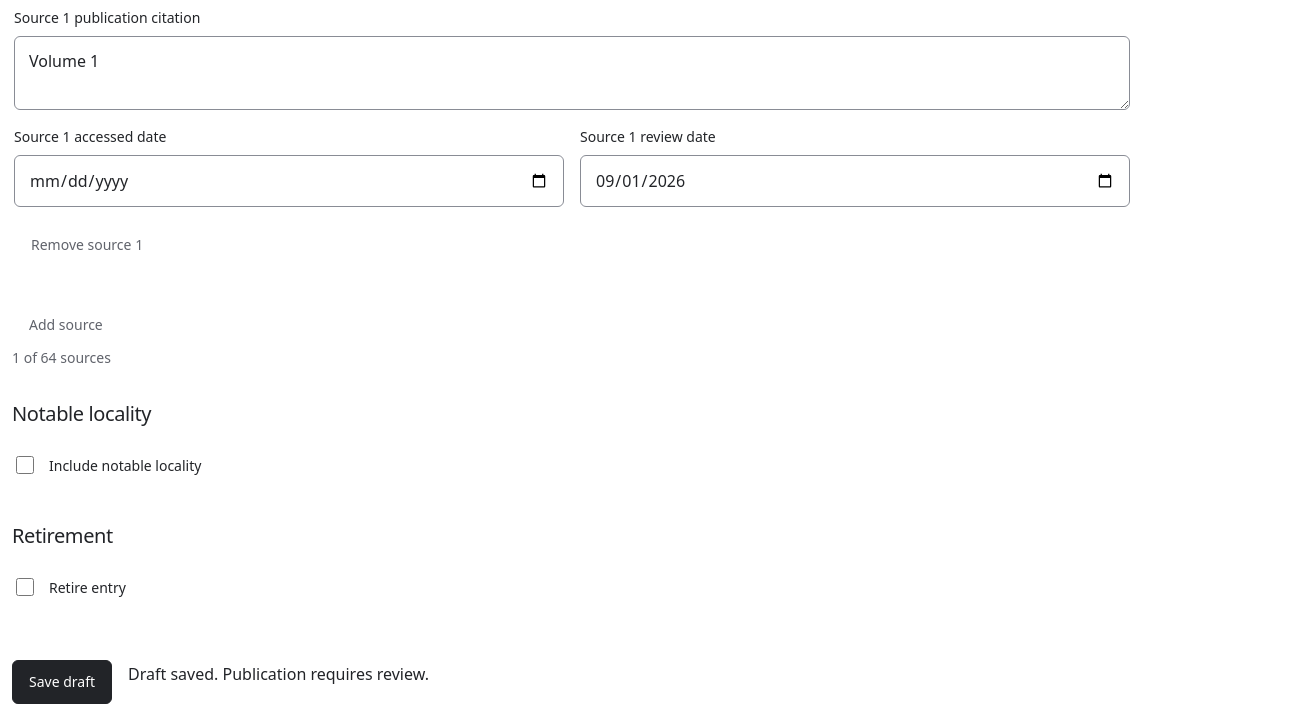
Test: gem editor › saves incomplete retirement and citations while showing server field errors
(page scrolled)
Step 1. Click the checkbox labelled "Retire entry" → (25, 587), box [16, 565, 34, 609]
(page scrolled)
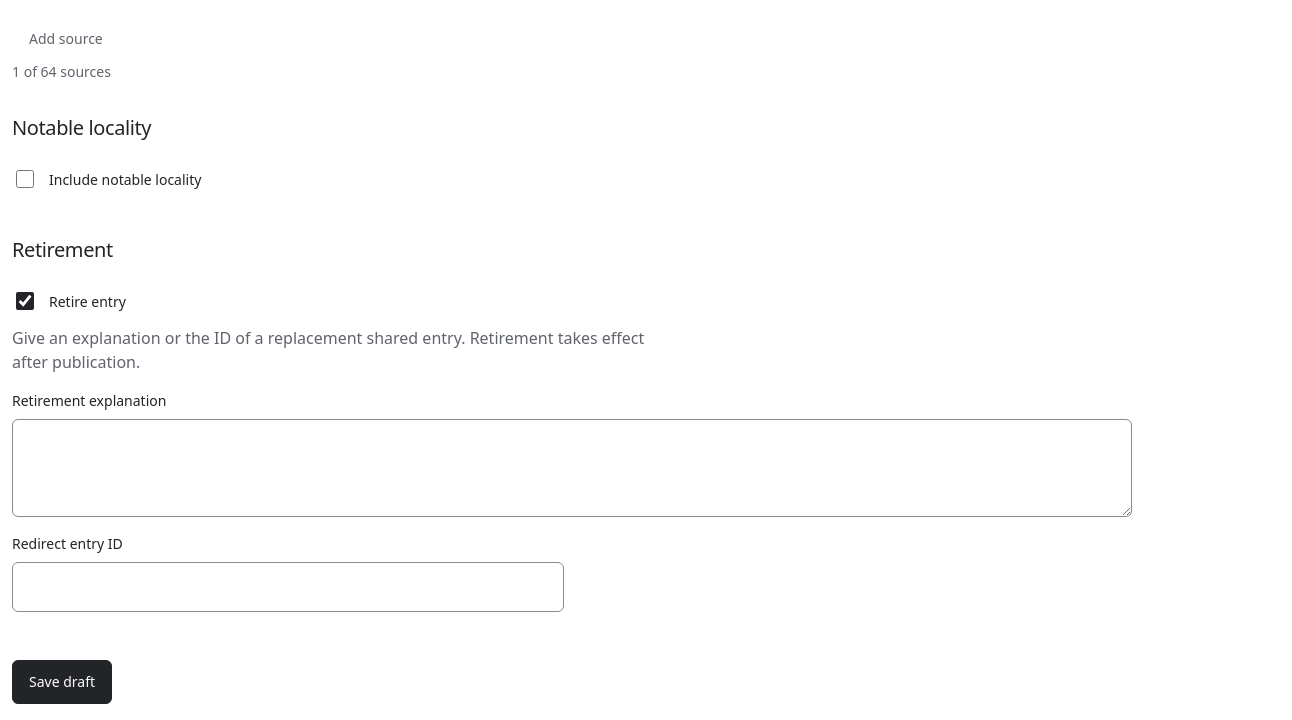
Note: WHEN saving incomplete content THEN it persists as a draft with publication errors.
Step 2. Click the button "Save draft" → (62, 682), box [12, 660, 112, 704]
(page scrolled)
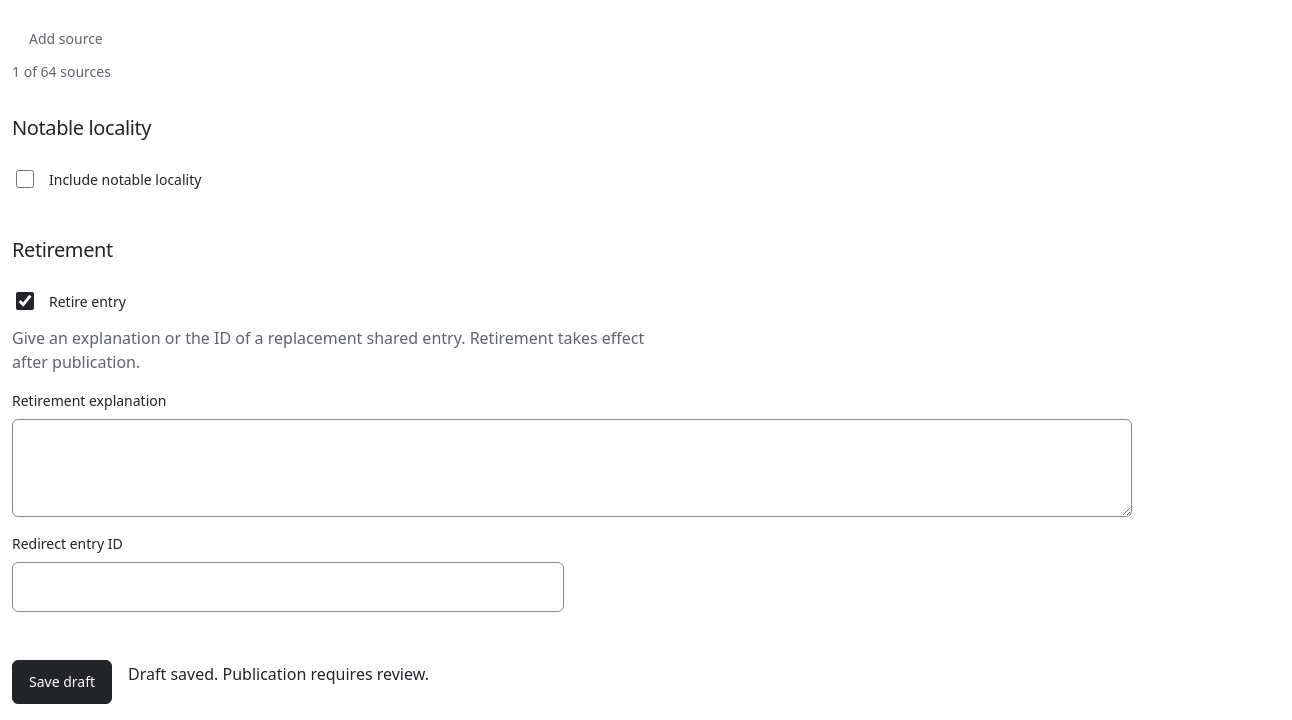
Expected: the text "Draft saved. Publication requires review." is shown, [128, 662, 429, 686]
